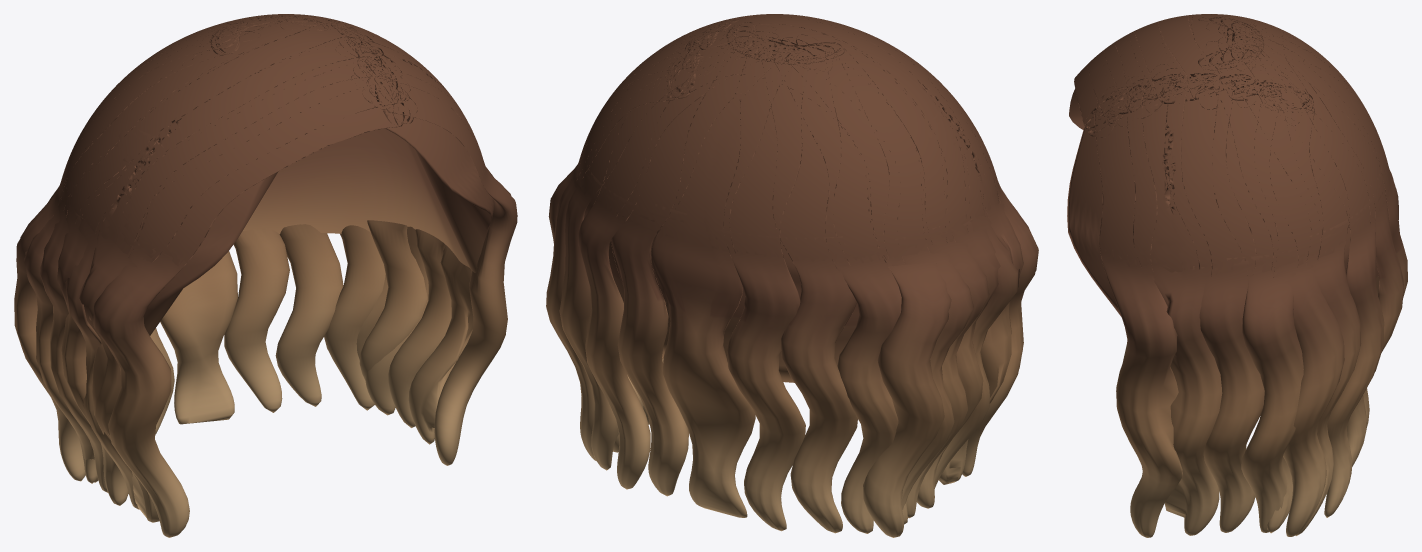
Rendered from Ombre-f8f808efe737253-hair.glb.
The picture shows the model from 3 angles, left to right: view 1: azimuth 30°, elevation 25°; view 2: azimuth 150°, elevation 25°; view 3: azimuth 270°, elevation 25°; orthographic projection. The views are drawn at different scales.
Parts seen in each view (by area): view 1: 226 hair / Hair / sculpted 0.002, 226 hair / Hair / sculpted 1.004, 226 hair / Hair / sculpted 2.002, 226 hair / Hair / sculpted 1.003; view 2: 226 hair / Hair / sculpted 2.002, 226 hair / Hair / sculpted 0.002, 226 hair / Hair / sculpted 1.004, 226 hair / Hair / sculpted 1.003; view 3: 226 hair / Hair / sculpted 1.004, 226 hair / Hair / sculpted 2.002, 226 hair / Hair / sculpted 0.002, 226 hair / Hair / sculpted 1.003.
Part boxes in pixels (x1,y1,x2,y2): 226 hair / Hair / sculpted 0.002: [14, 14, 451, 537]; 226 hair / Hair / sculpted 1.004: [40, 14, 517, 522]; 226 hair / Hair / sculpted 2.002: [24, 14, 493, 509]; 226 hair / Hair / sculpted 1.003: [61, 117, 494, 335]; 226 hair / Hair / sculpted 2.002: [546, 14, 1019, 533]; 226 hair / Hair / sculpted 0.002: [578, 14, 1038, 537]; 226 hair / Hair / sculpted 1.004: [548, 14, 1023, 533]; 226 hair / Hair / sculpted 1.003: [576, 109, 999, 382]; 226 hair / Hair / sculpted 1.004: [1087, 14, 1403, 537]; 226 hair / Hair / sculpted 2.002: [1104, 14, 1407, 536]; 226 hair / Hair / sculpted 0.002: [1074, 14, 1393, 532]; 226 hair / Hair / sculpted 1.003: [1067, 88, 1388, 316].
Bounding box in the file's own units: 1.09 × 1.08 × 0.7673.
Materials: 4 (4 with a texture image).
